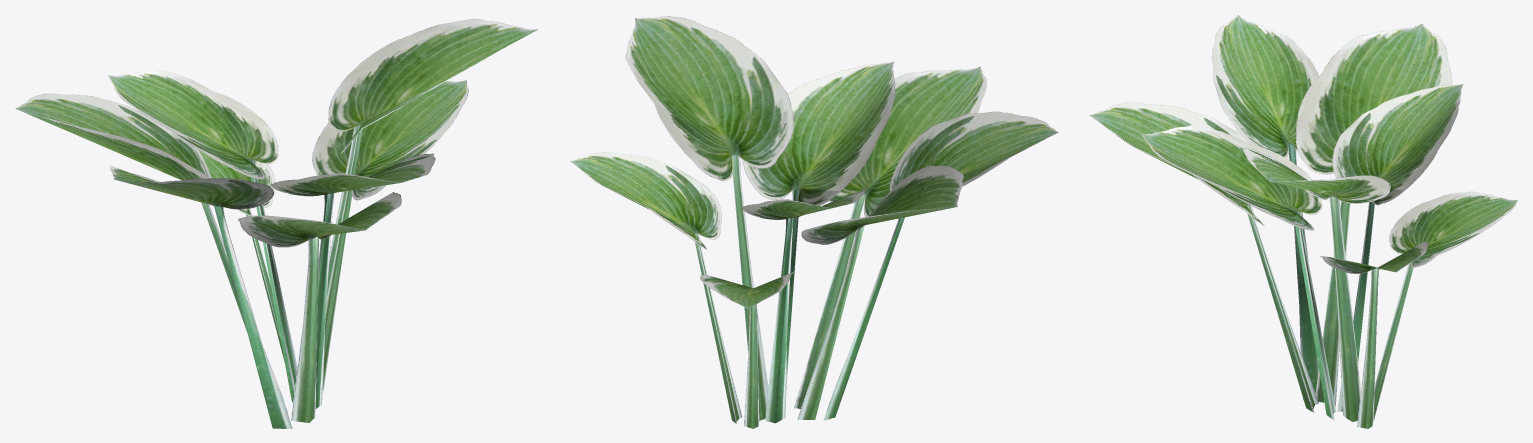
File: plant_small_wg_05O.fbx
3 renders of one model, left to right at view 1: azimuth 30°, elevation 25°; view 2: azimuth 150°, elevation 25°; view 3: azimuth 270°, elevation 25°, orthographic. The views are drawn at different scales.
Visible parts, largest first — view 1: plant_small_wg_05O; view 2: plant_small_wg_05O; view 3: plant_small_wg_05O.
Part boxes in pixels (left/top/right/bottom): plant_small_wg_05O: left=15, top=18, right=538, bottom=428; plant_small_wg_05O: left=570, top=16, right=1058, bottom=428; plant_small_wg_05O: left=1089, top=15, right=1517, bottom=428.
Size of the model in its own units: 50.99 by 39.63 by 48.05.
